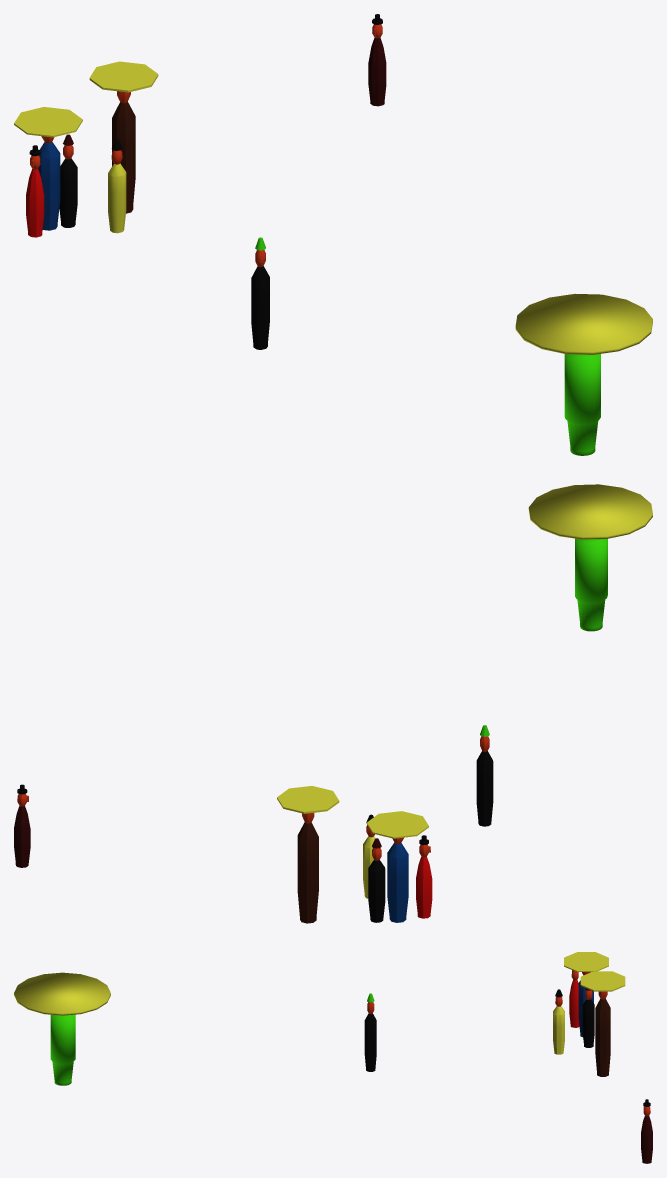
The model's file is personas.fbx.
The picture shows the model from 3 angles, top to bottom: view 1: azimuth 30°, elevation 25°; view 2: azimuth 150°, elevation 25°; view 3: azimuth 270°, elevation 25°; orthographic projection. The views are drawn at different scales.
Visible parts, largest first — view 1: Mesh; view 2: Mesh; view 3: Mesh.
Boxes of the visible parts, left/top/right/bottom form: Mesh: left=14, top=14, right=652, bottom=455; Mesh: left=14, top=484, right=652, bottom=923; Mesh: left=14, top=952, right=652, bottom=1163.
Bounding box in the file's own units: 416 × 156 × 806.
